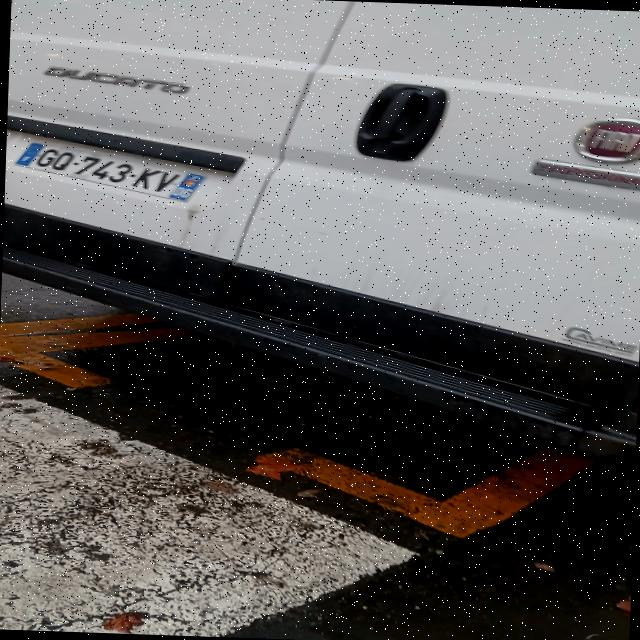EU: (5, 134, 215, 203)
France: (12, 138, 49, 168)
